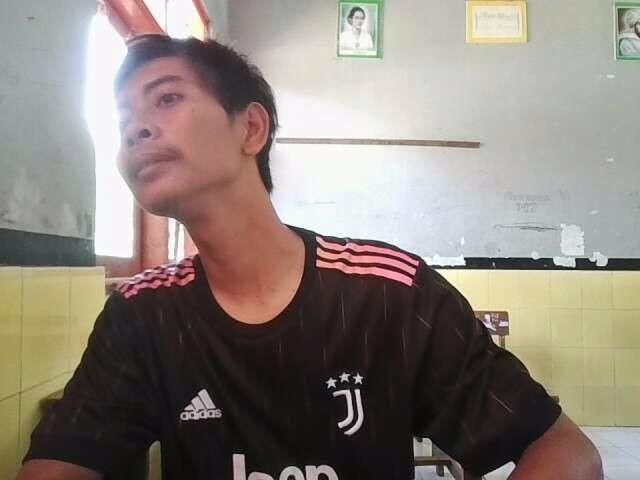cheating: (21, 31, 612, 480)
